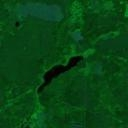alloviz: (35, 53, 85, 95), (14, 20, 21, 28)
